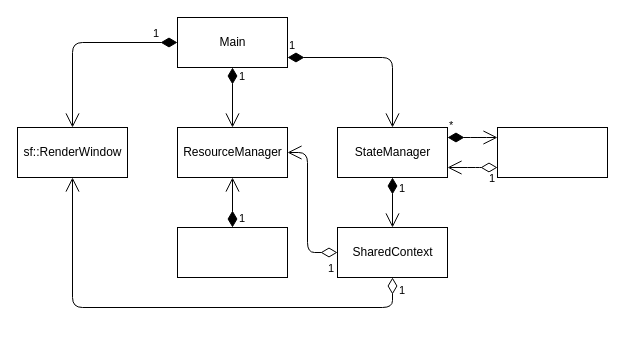
Some shapes in this 625 by 342 pixel diagram are drawn without their labels. Each missing label, with the box of its shape:
ResourceHolder: (176, 226, 288, 278)
State: (496, 126, 608, 178)
